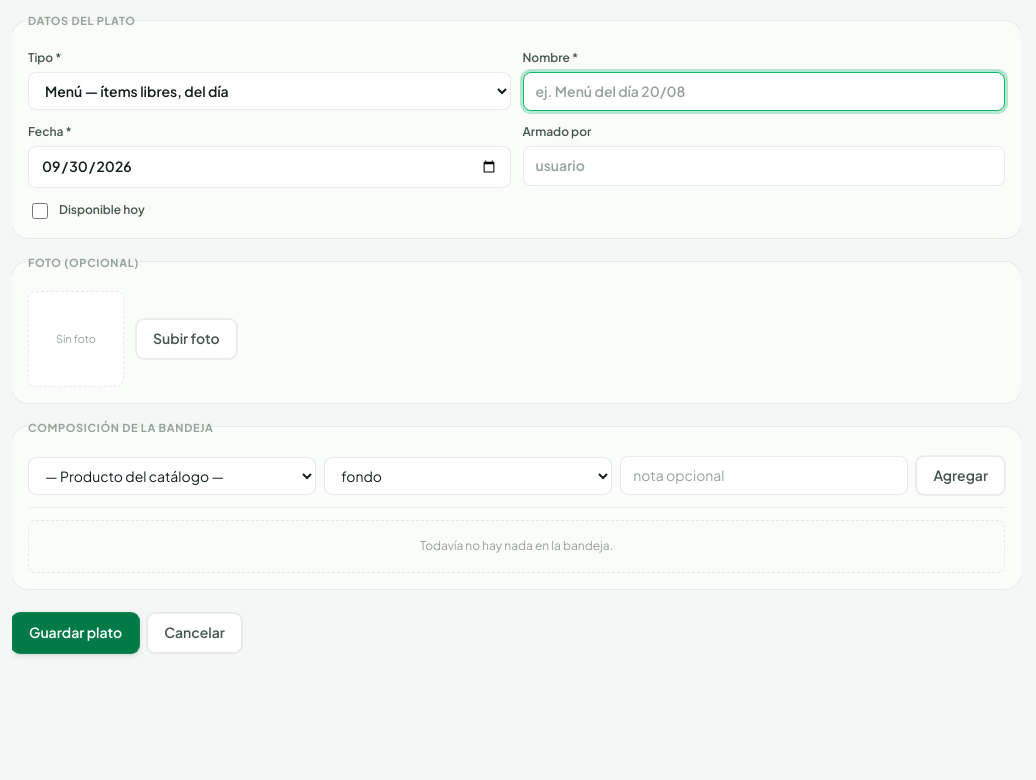
PlatoForm › requiere al menos un item con rol fondo
The width and height of the screenshot is (1036, 780).
In the field labelled "Nombre *": (764, 91) [522,72,1005,111], type "Menú"
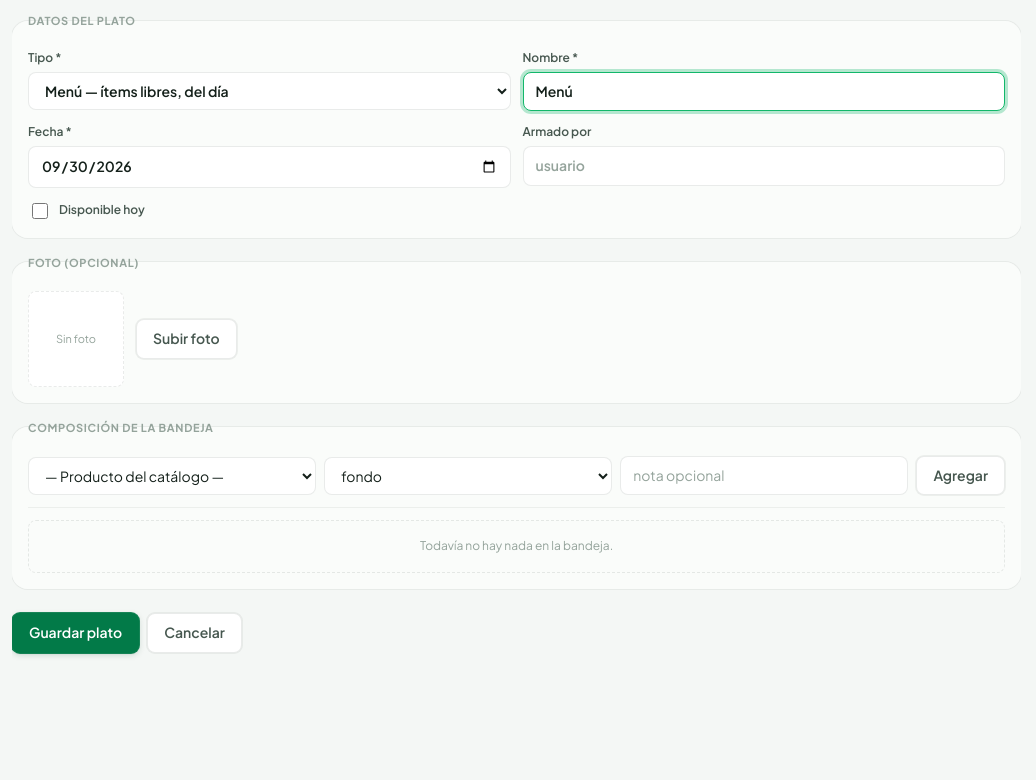
Note: agregar un item con rol ensalada (no fondo)
Select "Ensalada surtida (ensalada)" in the 1st dropdown showing "— Producto del catálogo —": (172, 476) [28,457,316,495]
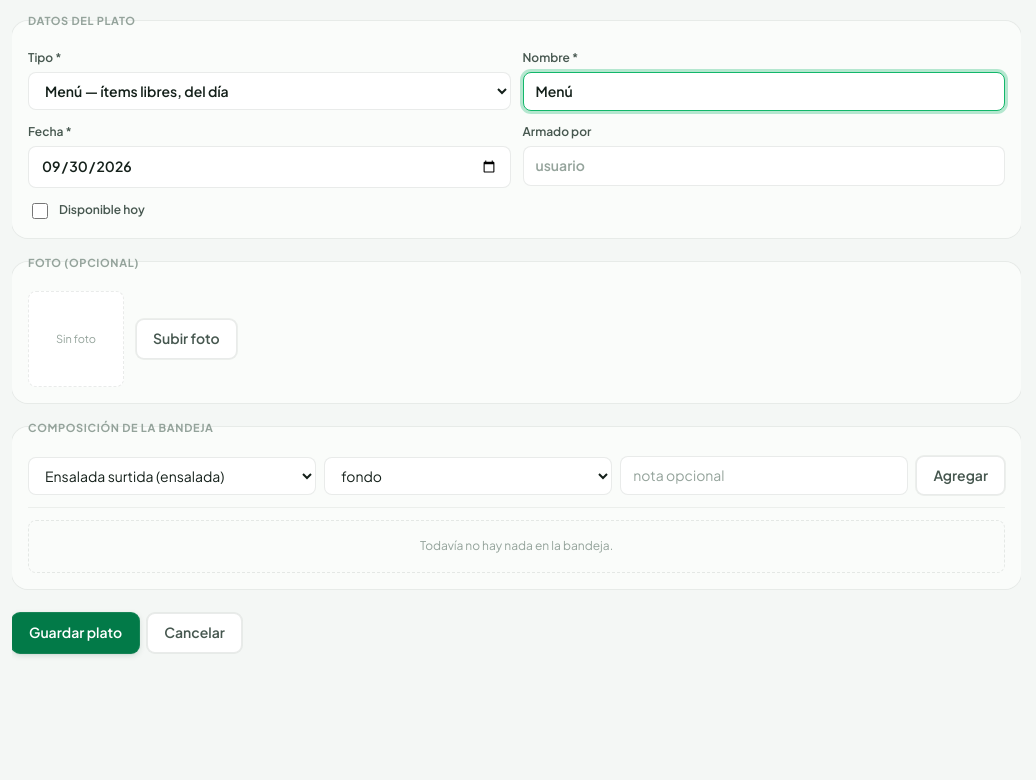
Select "ensalada" in the 2nd dropdown showing "fondo": (468, 476) [324,457,612,495]
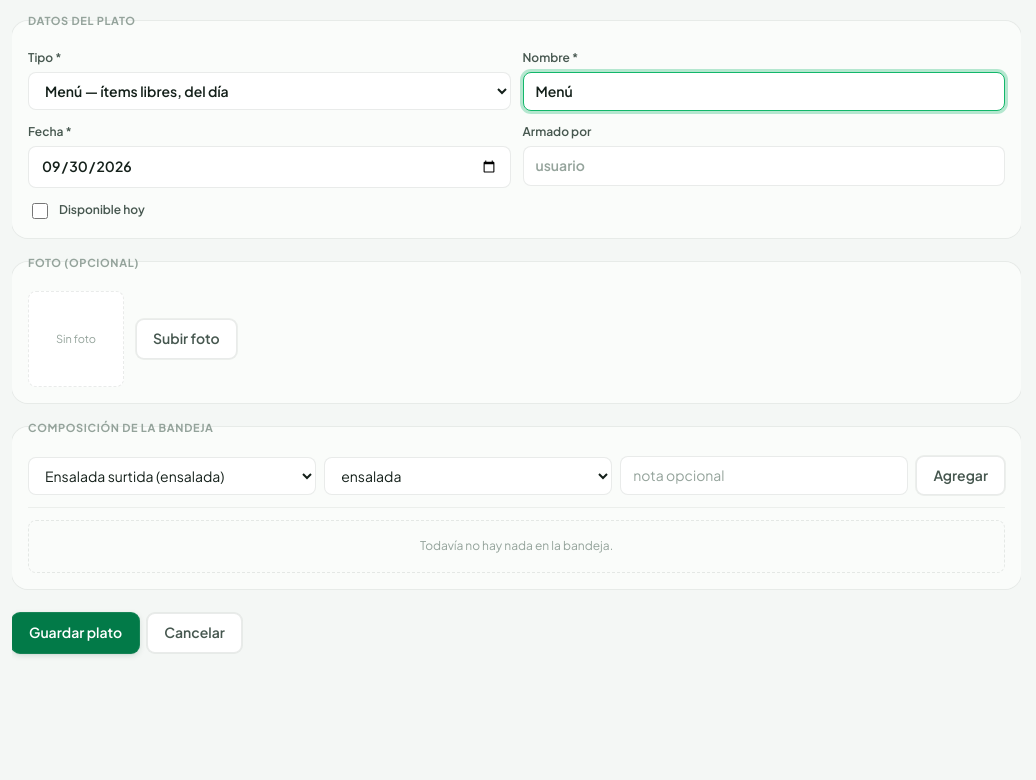
Click the button "Agregar": (961, 476) [916,456,1005,495]
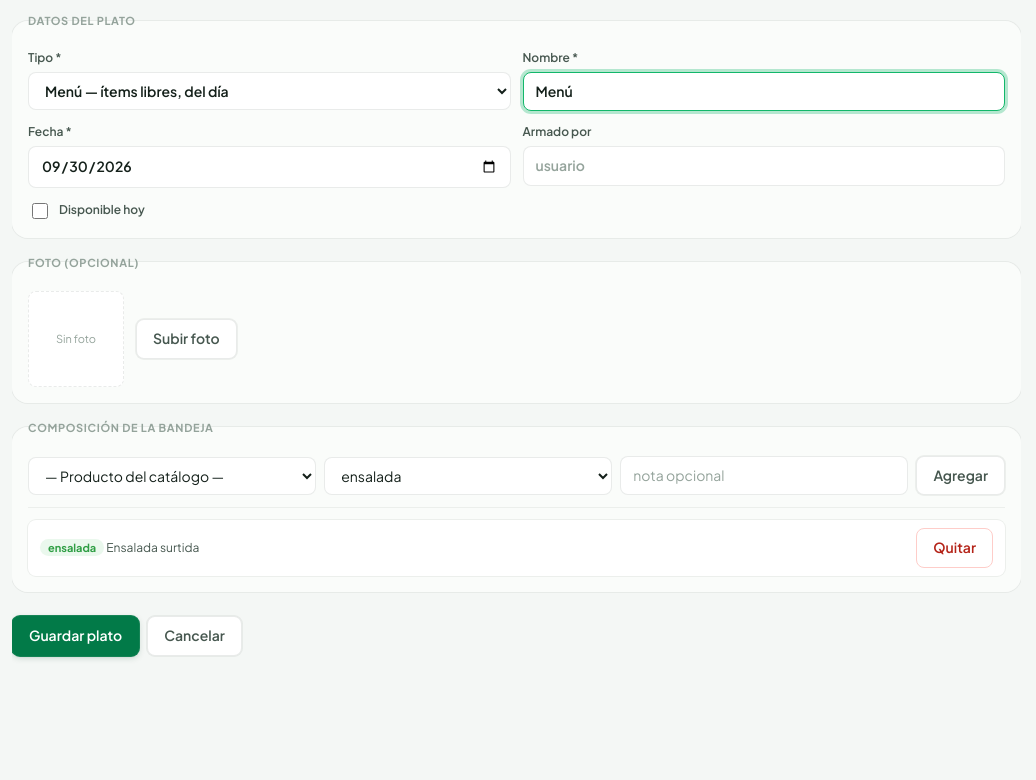
Click the button "Guardar plato": (76, 636) [12,616,139,656]
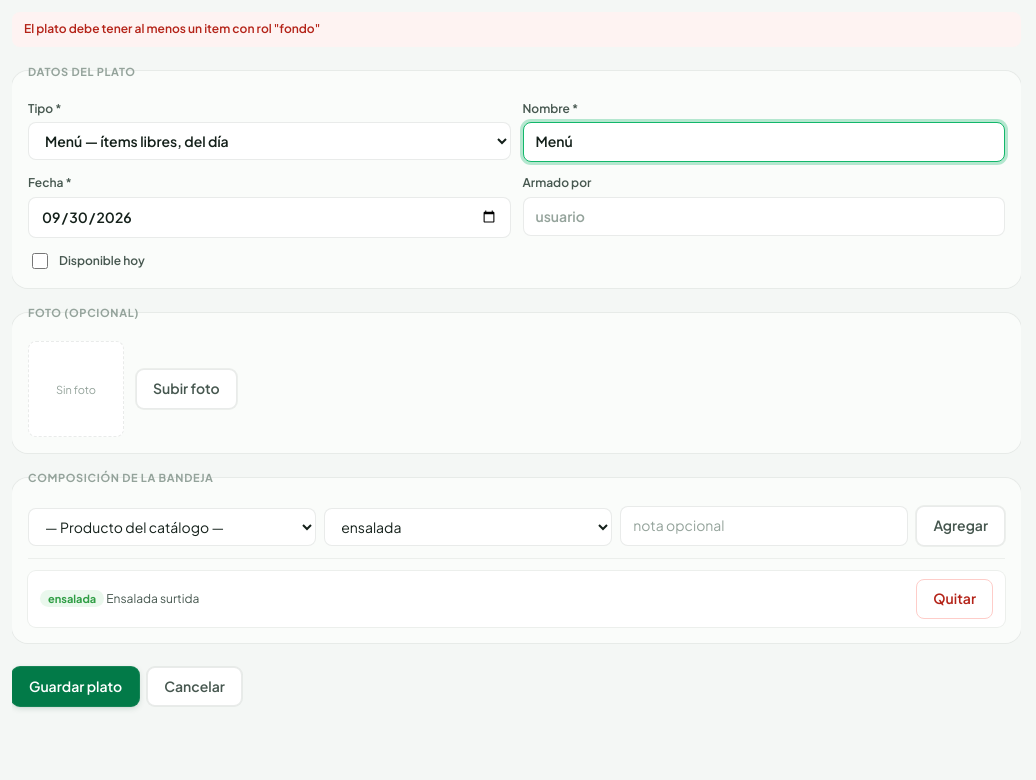
Check: the text "El plato debe tener al menos un item con rol \"fondo\"" is shown, box [12,12,1021,47]
